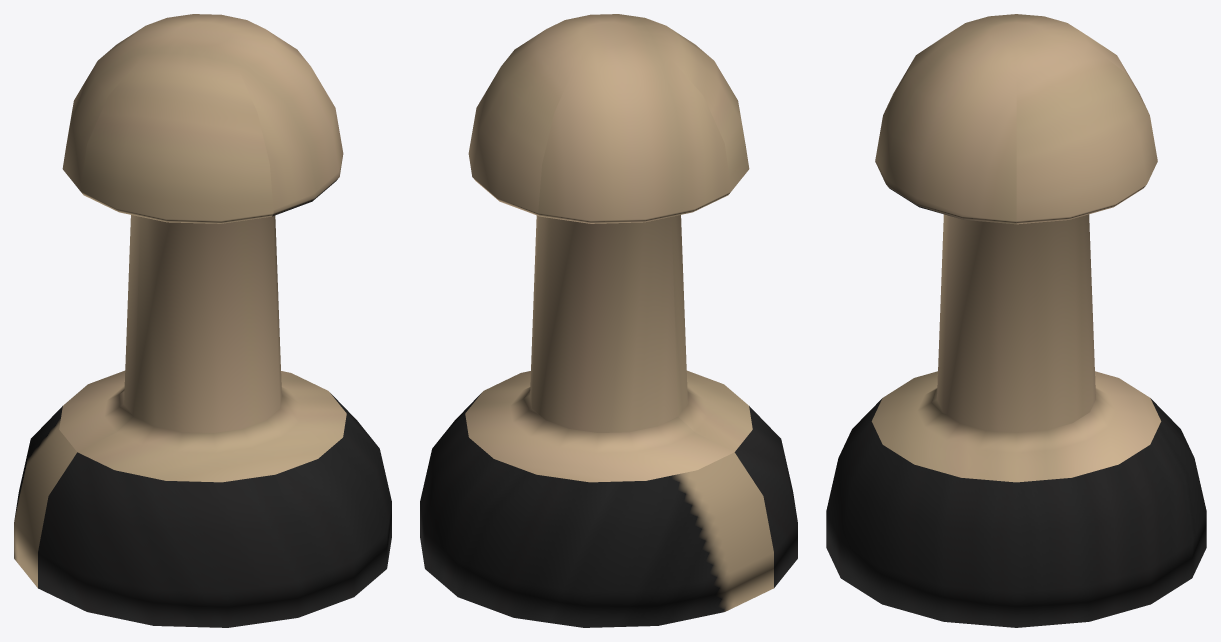
File: boardPin-model.fbx
3 views of the same model, side by side, from view 1: azimuth 30°, elevation 25°; view 2: azimuth 150°, elevation 25°; view 3: azimuth 270°, elevation 25° (orthographic).
Visible parts, largest first — view 1: boardPin; view 2: boardPin; view 3: boardPin.
Part boxes in pixels (left/top/right/bottom): boardPin: left=14, top=14, right=391, bottom=627; boardPin: left=420, top=14, right=797, bottom=627; boardPin: left=826, top=14, right=1206, bottom=627.
Bounding box in the file's own units: 3.19 × 5.11 × 3.19.
